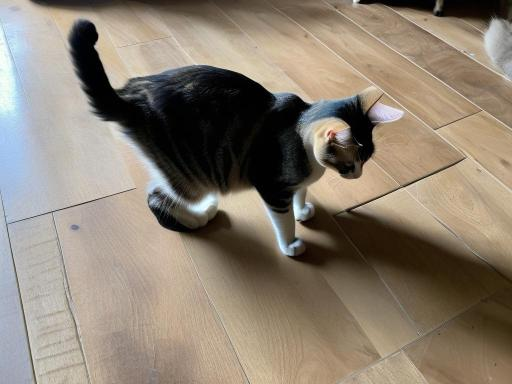cat_standing: (69, 20, 404, 256)
